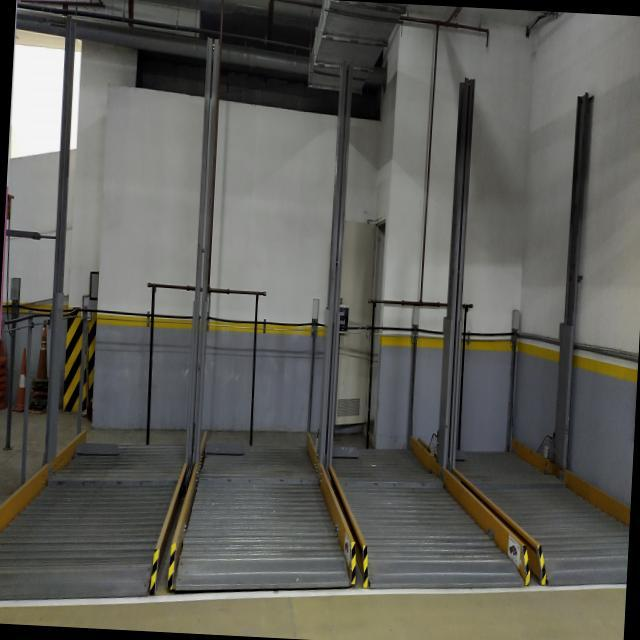free: (304, 429, 552, 607), (188, 412, 388, 624), (410, 428, 634, 592), (58, 423, 223, 594)
